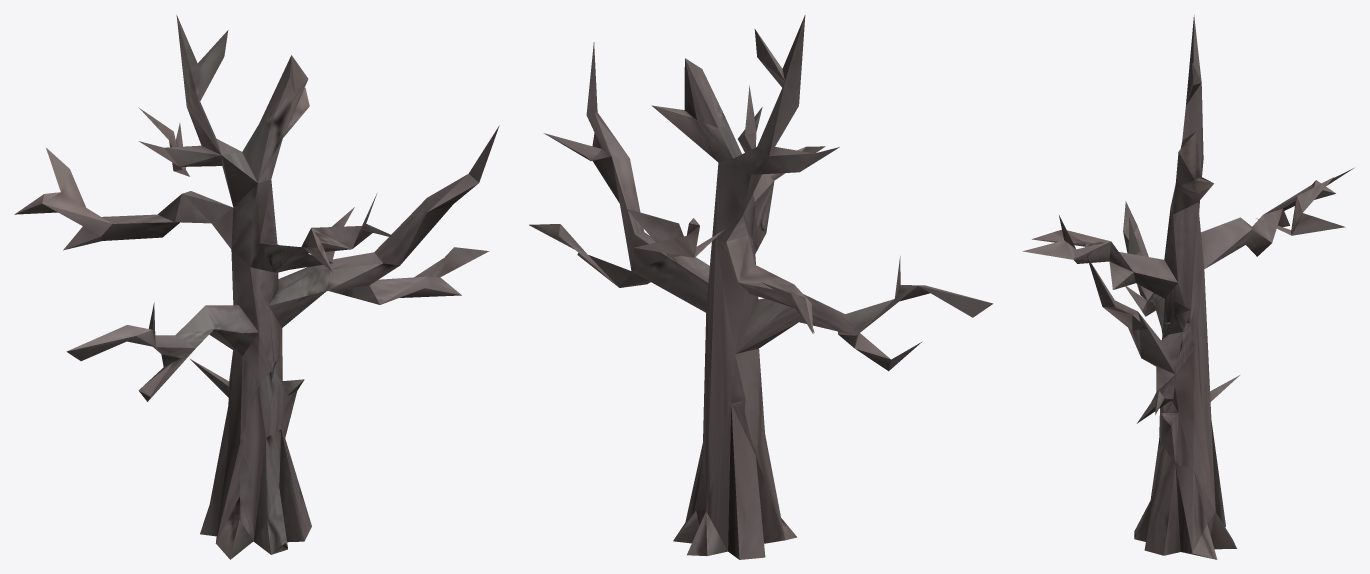
Rendered from bg_wasteland_dead_1_lod1.glb.
The picture shows the model from 3 angles, left to right: view 1: azimuth 30°, elevation 25°; view 2: azimuth 150°, elevation 25°; view 3: azimuth 270°, elevation 25°; orthographic projection. The views are drawn at different scales.
Visible parts, largest first — view 1: body; view 2: body; view 3: body.
Boxes of the visible parts, x1,y1,x2,y2 form: body: (14, 15, 499, 559); body: (529, 15, 993, 559); body: (1022, 15, 1353, 559).
Bounding box in the file's own units: 3.41 × 3.98 × 2.44.
1 material, 1 textured.
